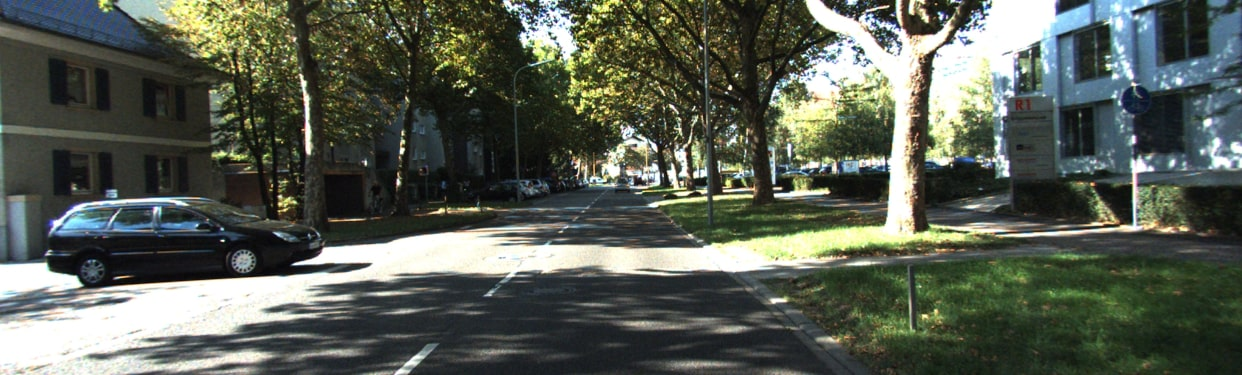car: (45, 201, 322, 280), (614, 174, 634, 193)
